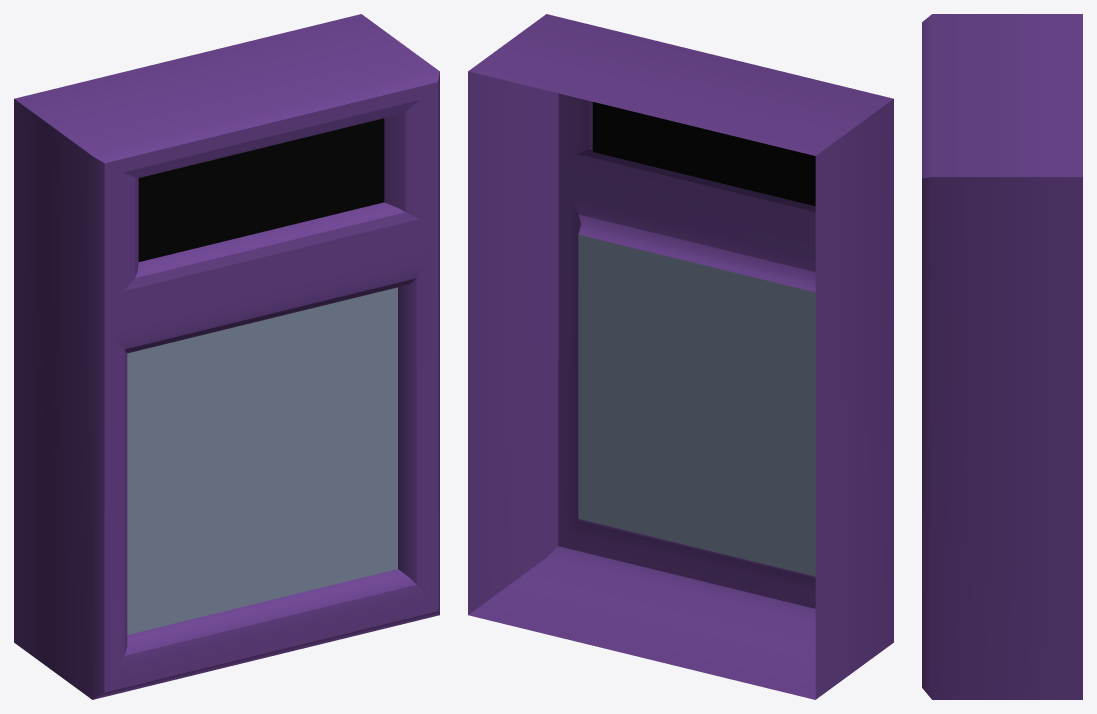
The model's file is priemniklazera.fbx.
3 views of the same model, side by side, from view 1: azimuth 30°, elevation 25°; view 2: azimuth 150°, elevation 25°; view 3: azimuth 270°, elevation 25° (orthographic). The views are drawn at different scales.
Parts seen in each view (by area): view 1: Cube.001, Cube.002, Cube.003; view 2: Cube.001, Cube.002, Cube.003; view 3: Cube.001.
Boxes of the visible parts, bbox=[...] form: Cube.001: bbox=[14, 14, 439, 699]; Cube.002: bbox=[127, 287, 397, 634]; Cube.003: bbox=[138, 118, 384, 261]; Cube.001: bbox=[468, 14, 893, 699]; Cube.002: bbox=[578, 234, 815, 576]; Cube.003: bbox=[592, 102, 815, 206]; Cube.001: bbox=[922, 14, 1082, 699].
Bounding box in the file's own units: 39.4 × 58.96 × 16.43.
